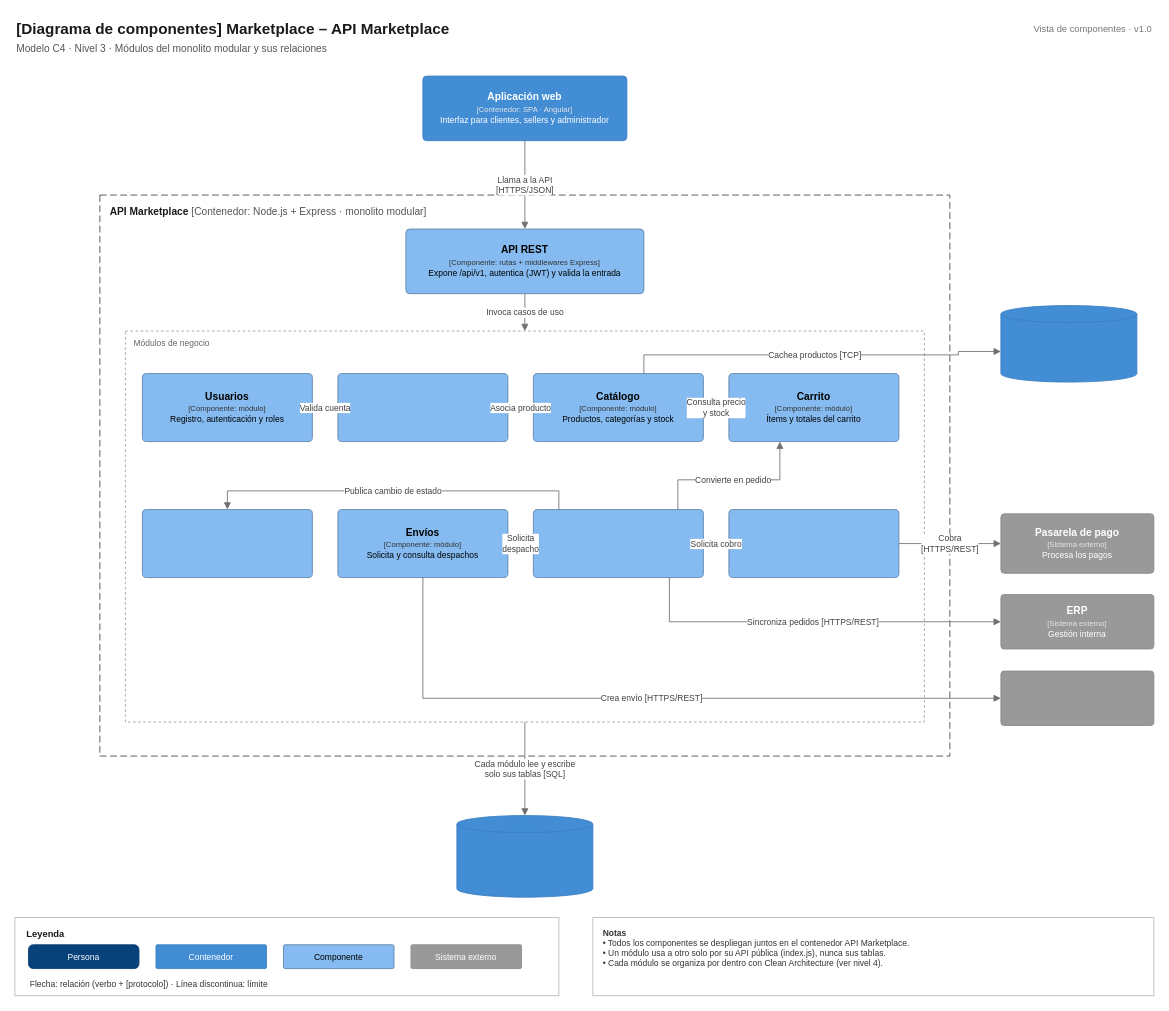
Image size: 1169x1011. Some labels were removed from this diagram. The centre of each missing label's shape, as x and y in pixels:
Base de datos [Contenedor: PostgreSQL] Tablas agrupadas por módulo: [524,856]
Caché [Contenedor: Redis] Catálogo en memoria: [1068,343]
Notificaciones [Componente: módulo] Avisa al cliente el estado del pedido: [227,543]
Pagos [Componente: módulo] Cobro mediante la pasarela: [813,543]
Pedidos [Componente: módulo] Checkout y estados del pedido: [618,543]
Sellers [Componente: módulo] Gestión de tiendas y vendedores: [422,407]
Servicio de envío [Sistema externo] Gestiona las entregas: [1077,697]
